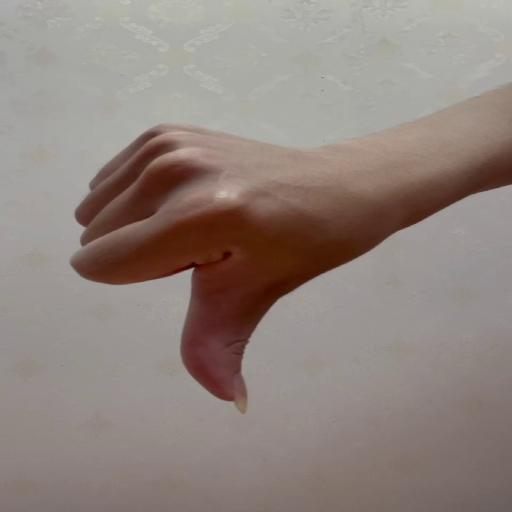thumbs_down: (66, 119, 400, 414)
